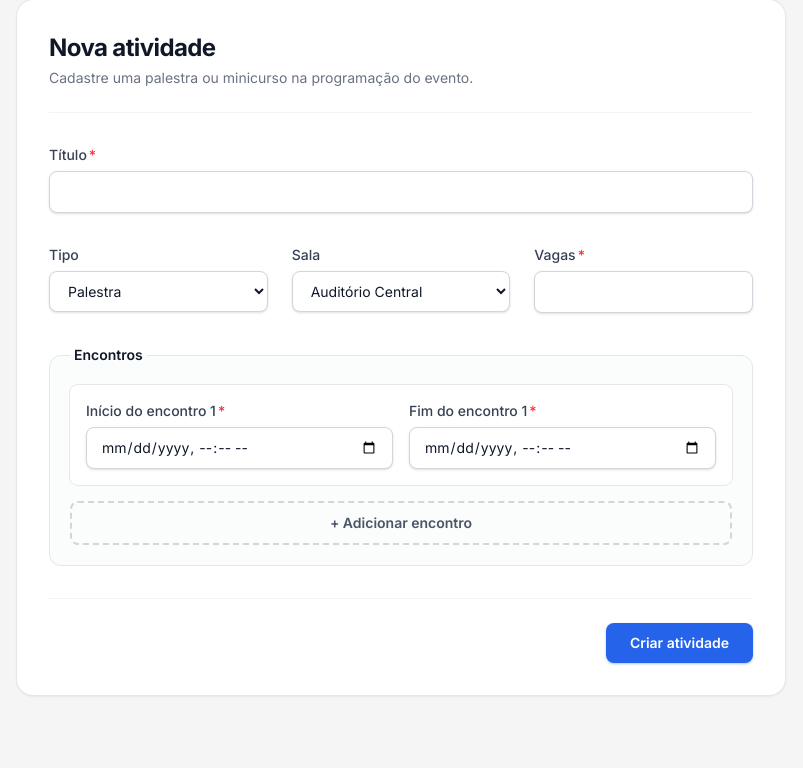
Test: FormularioAtividade › mostra o código de erro devolvido pela API em conflito de sala
Type "IA hoje" into the field labelled "Título" at (401, 192), box [49,171,753,213]
Select "Palestra" in the dropdown labelled "Tipo" at (158, 292), box [49,271,268,312]
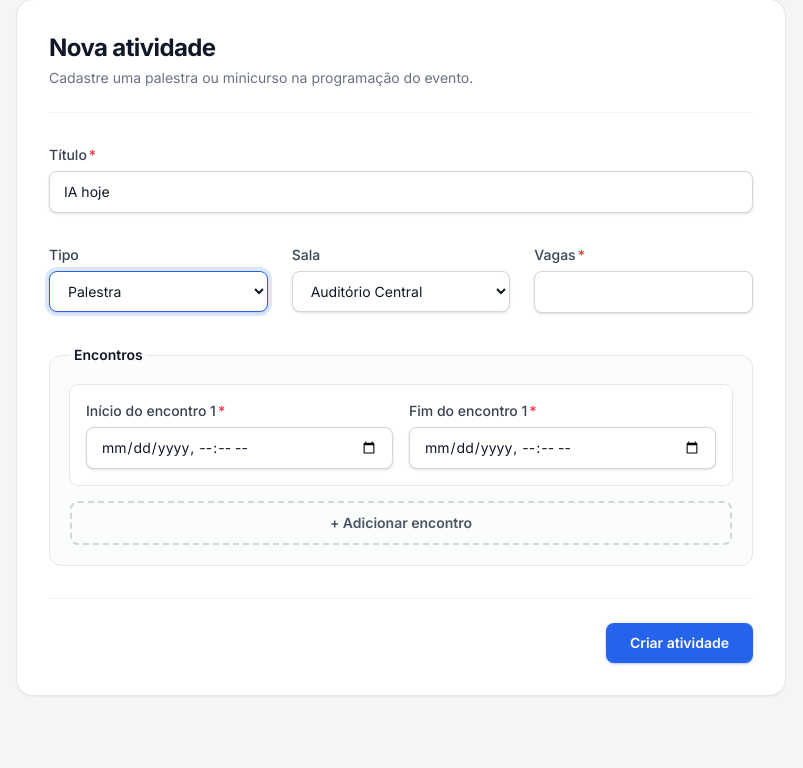
Select "Sala 101" in the dropdown labelled "Sala" at (401, 292), box [292,271,510,312]
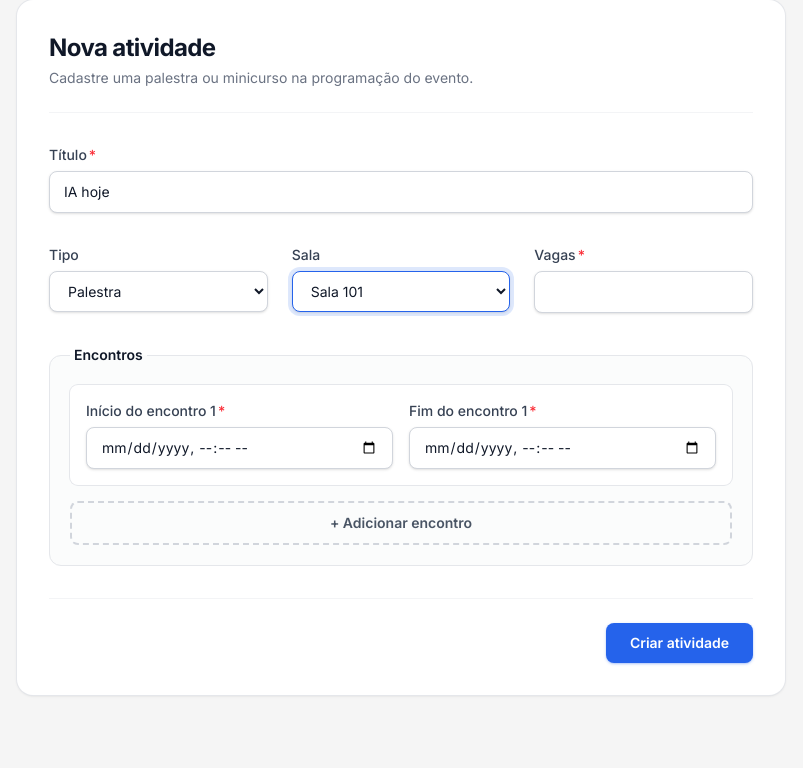
Type "40" into the number field labelled "Vagas" at (644, 292), box [534,271,753,313]
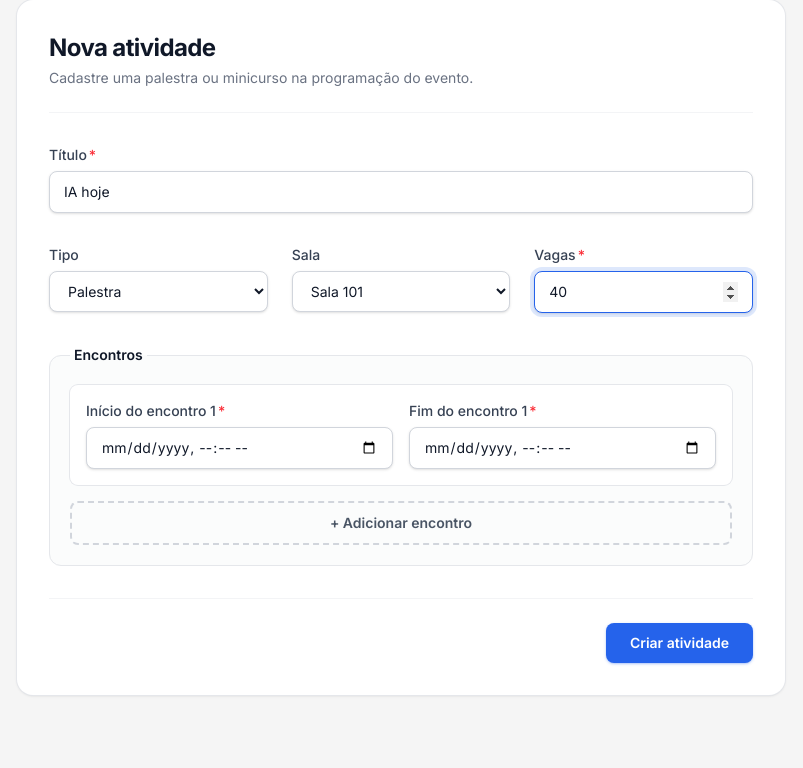
Type "2026-10-19T19:00" into the field labelled "Início do encontro 1" at (240, 448), box [86,427,393,469]
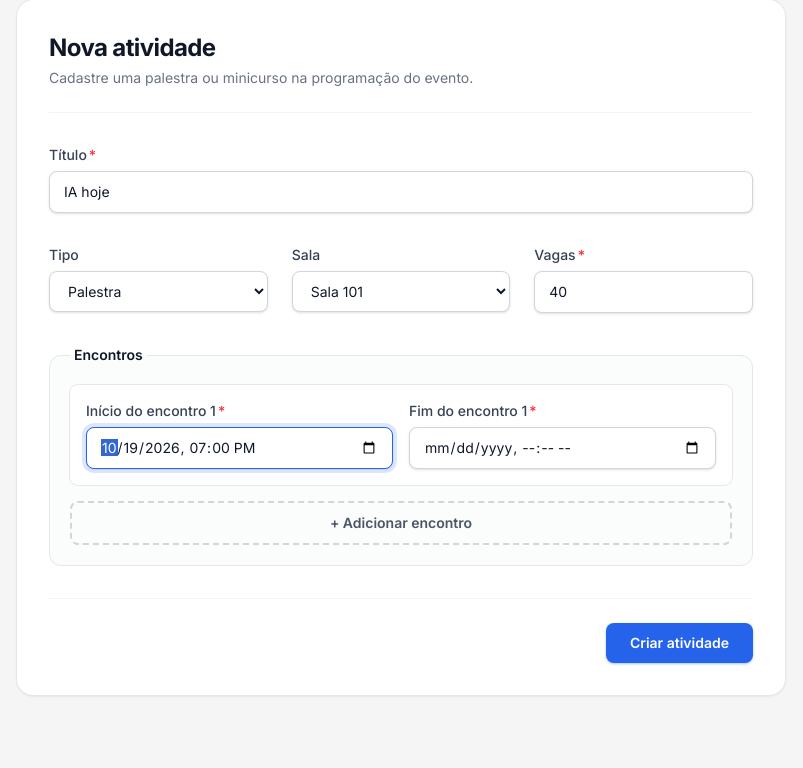
Type "2026-10-19T21:00" into the field labelled "Fim do encontro 1" at (562, 448), box [409,427,716,469]
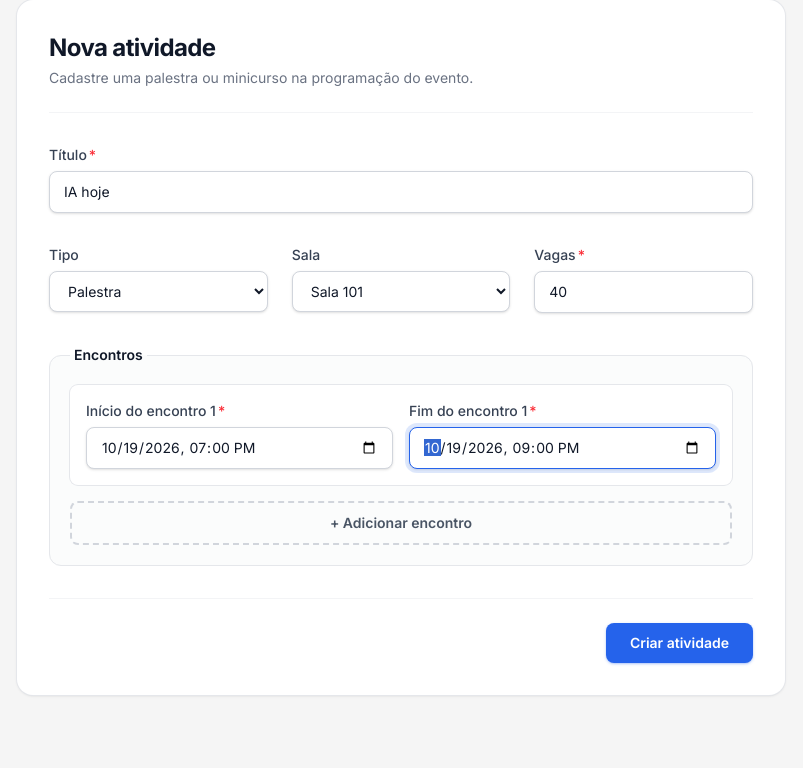
Click the button "Criar atividade" at (679, 643), box [606,623,753,663]
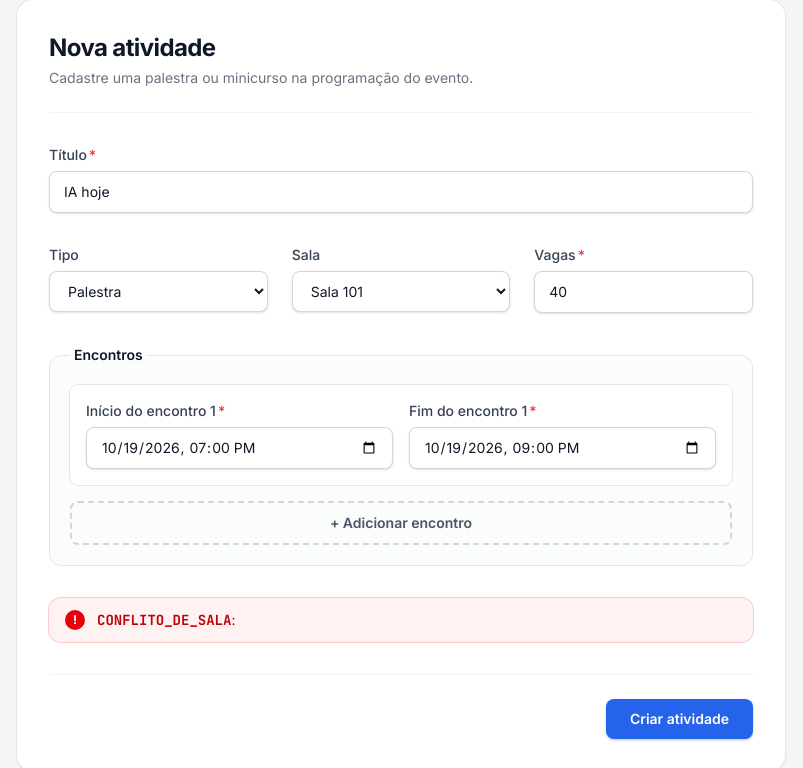
Expected: the message shows "CONFLITO_DE_SALA", [97,611,231,629]
